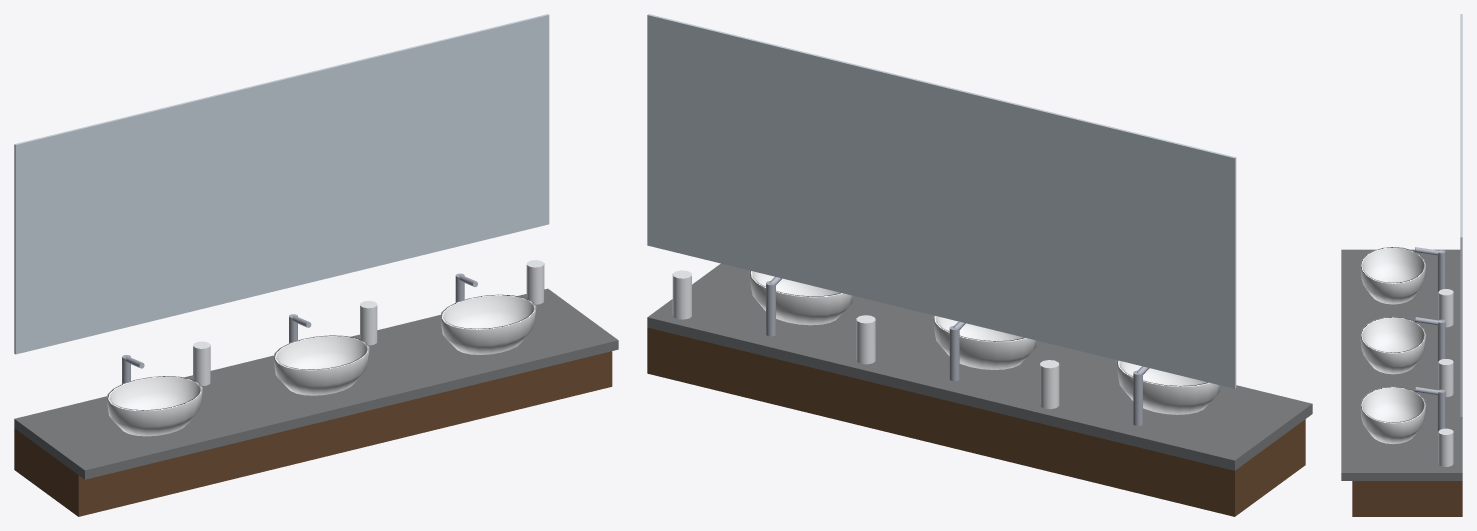
The model's file is ame-004.glb.
3 renders of one model, left to right at view 1: azimuth 30°, elevation 25°; view 2: azimuth 150°, elevation 25°; view 3: azimuth 270°, elevation 25°, orthographic. The views are drawn at different scales.
Visible parts, largest first — view 1: mirror, stone_top, walnut, porcelain, white, steel; view 2: mirror, stone_top, walnut, porcelain, white, steel; view 3: stone_top, porcelain, walnut, white, steel, mirror.
Boxes of the visible parts, <box> form: mirror: <box>14,14,549,354</box>; stone_top: <box>14,288,618,479</box>; walnut: <box>14,351,612,516</box>; porcelain: <box>106,294,536,436</box>; white: <box>193,260,544,385</box>; steel: <box>122,273,477,383</box>; mirror: <box>647,14,1236,388</box>; stone_top: <box>647,263,1312,470</box>; walnut: <box>647,327,1305,516</box>; porcelain: <box>749,270,1220,414</box>; white: <box>672,270,1059,409</box>; steel: <box>766,277,1149,425</box>; stone_top: <box>1341,249,1462,480</box>; porcelain: <box>1360,247,1426,444</box>; walnut: <box>1352,481,1462,516</box>; white: <box>1438,289,1453,466</box>; steel: <box>1414,247,1445,431</box>; mirror: <box>1460,14,1462,416</box>.
Size of the model in its own units: 2.4 by 1.4 by 0.55.
